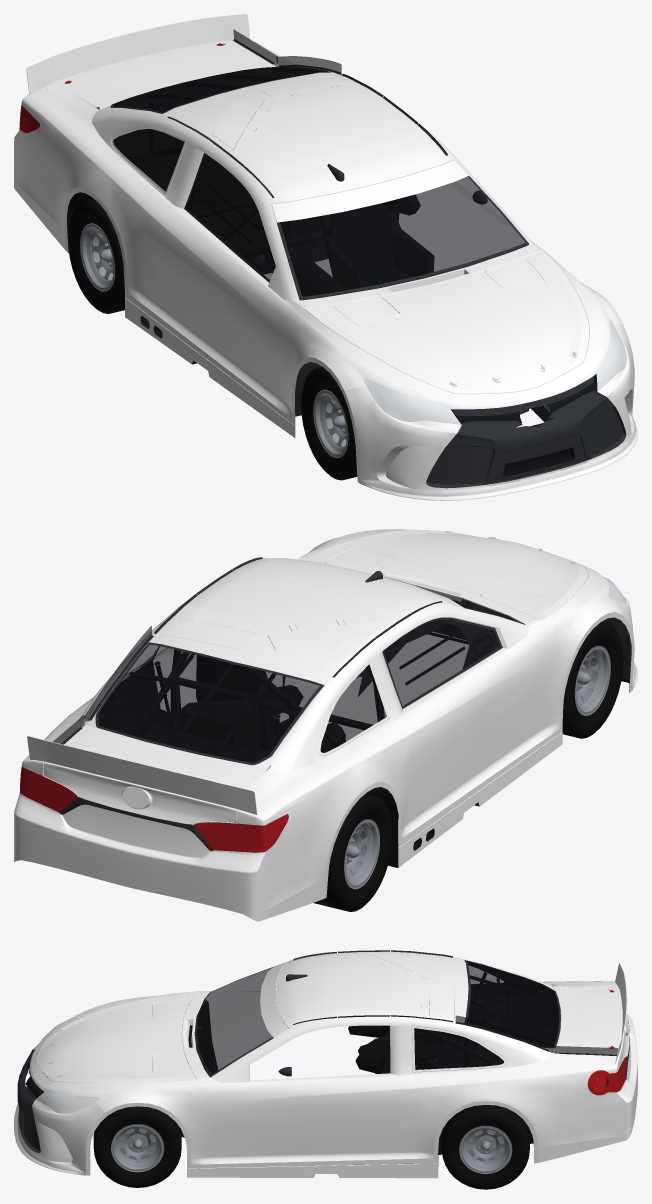
Rendered from camry.glb.
The picture shows the model from 3 angles, top to bottom: view 1: azimuth 30°, elevation 25°; view 2: azimuth 150°, elevation 25°; view 3: azimuth 270°, elevation 25°; orthographic projection. The views are drawn at different scales.
Visible parts, largest first — view 1: part_paint, part_glass, part_interior, part_trim, tire (×2), part_lightF, rim (×2), part_black; view 2: part_paint, part_glass, part_interior, part_trim, tire (×2), rim (×2), part_lightR, part_black; view 3: part_paint, part_glass, part_interior, tire (×2), part_trim, rim (×2), part_lightF, part_lightR, part_black.
Part boxes in pixels (x1,y1,x2,y2): part_paint: [14, 14, 637, 500]; part_glass: [113, 29, 525, 296]; part_interior: [113, 66, 597, 426]; part_trim: [110, 39, 626, 488]; tire (×2): [68, 199, 357, 480]; part_lightF: [364, 319, 633, 488]; rim (×2): [80, 223, 348, 458]; part_black: [67, 71, 574, 476]; part_paint: [14, 529, 637, 921]; part_glass: [53, 577, 520, 762]; part_interior: [99, 631, 464, 762]; part_trim: [59, 557, 631, 851]; tire (×2): [313, 622, 623, 911]; rim (×2): [344, 645, 610, 889]; part_lightR: [20, 766, 288, 852]; part_black: [154, 600, 629, 867]; part_paint: [14, 951, 637, 1178]; part_glass: [197, 961, 617, 1074]; part_interior: [23, 961, 558, 1098]; tire (×2): [93, 1105, 529, 1189]; part_trim: [17, 950, 629, 1152]; rim (×2): [111, 1124, 512, 1173]; part_lightF: [35, 1022, 99, 1165]; part_lightR: [587, 989, 627, 1095]; part_black: [19, 970, 533, 1165].
Size of the model in its own units: 1.92 by 1.36 by 4.82.
